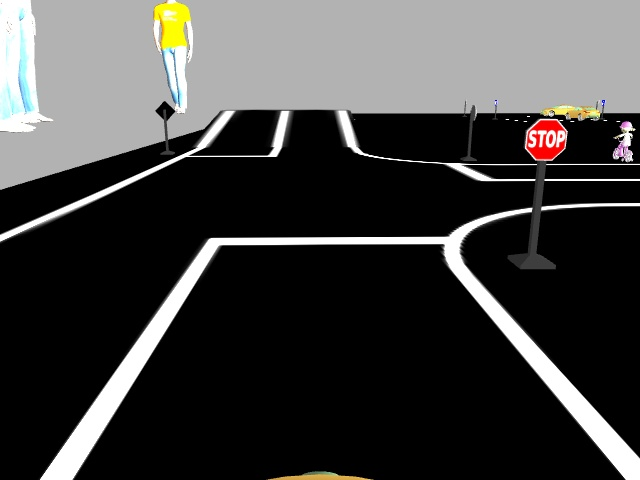Pedestrian: (609, 118, 635, 162)
Stop: (519, 113, 570, 163)
